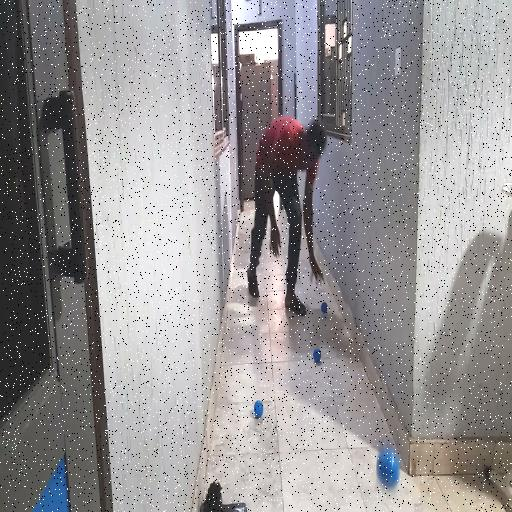plastic-ball: (375, 446, 401, 490)
